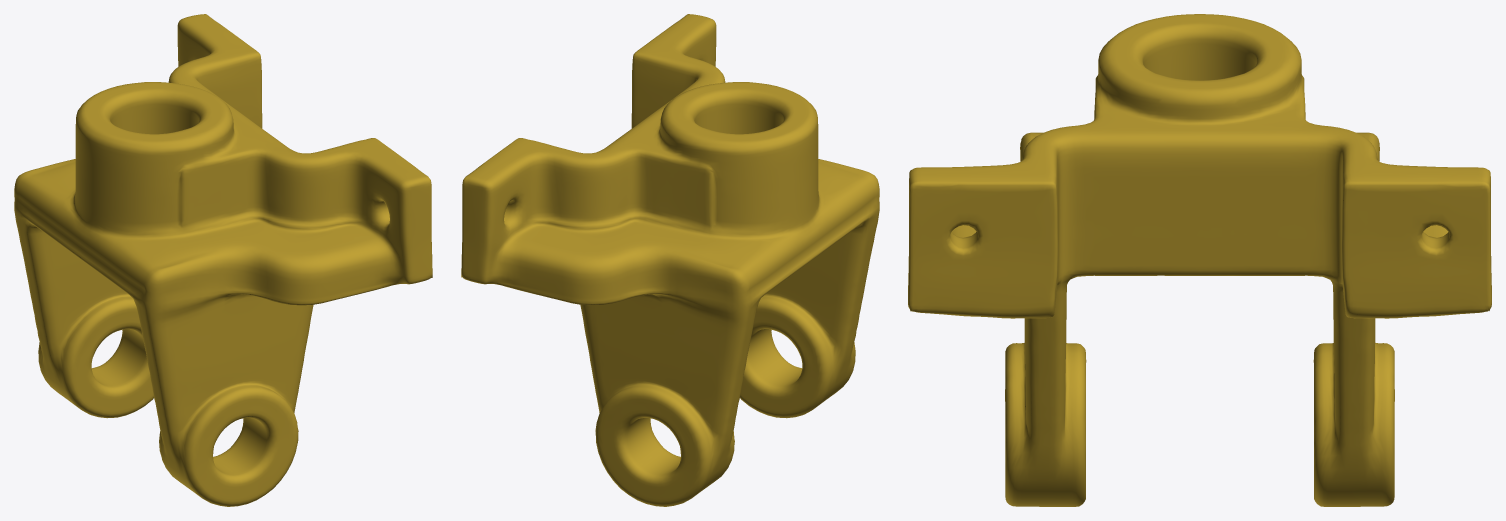
File: alat3.glb
The picture shows the model from 3 angles, left to right: view 1: azimuth 30°, elevation 25°; view 2: azimuth 150°, elevation 25°; view 3: azimuth 270°, elevation 25°; orthographic projection. The views are drawn at different scales.
Visible parts, largest first — view 1: model; view 2: model; view 3: model.
Boxes of the visible parts, bbox=[...] form: model: bbox=[14, 14, 432, 506]; model: bbox=[461, 14, 879, 506]; model: bbox=[908, 14, 1491, 506].
Bounding box in the file's own units: 3.81 × 5.19 × 6.28.
